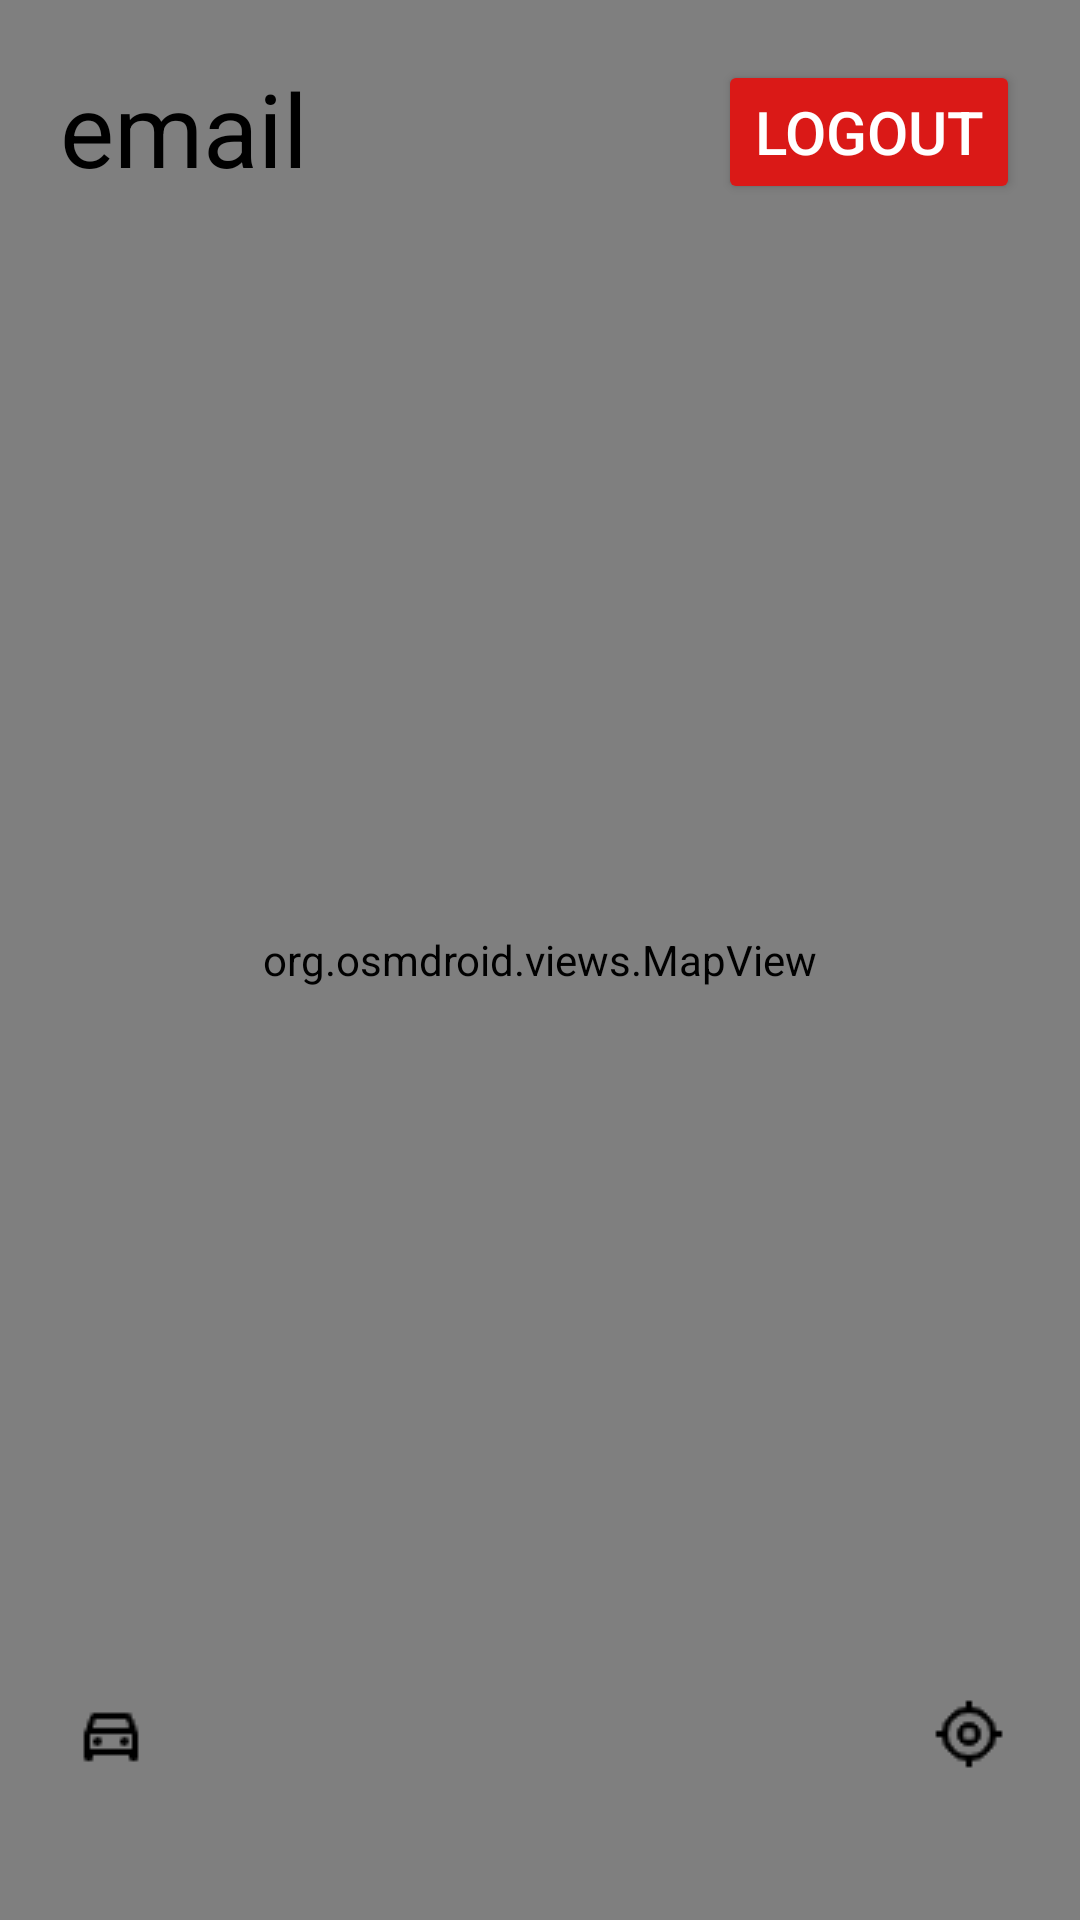

Locate icon controls on the screen. Image size 1080x1920, boxes as (x1, y1, x2, y2).
car: (83, 1712, 139, 1762)
locationicon: (935, 1700, 1003, 1768)
